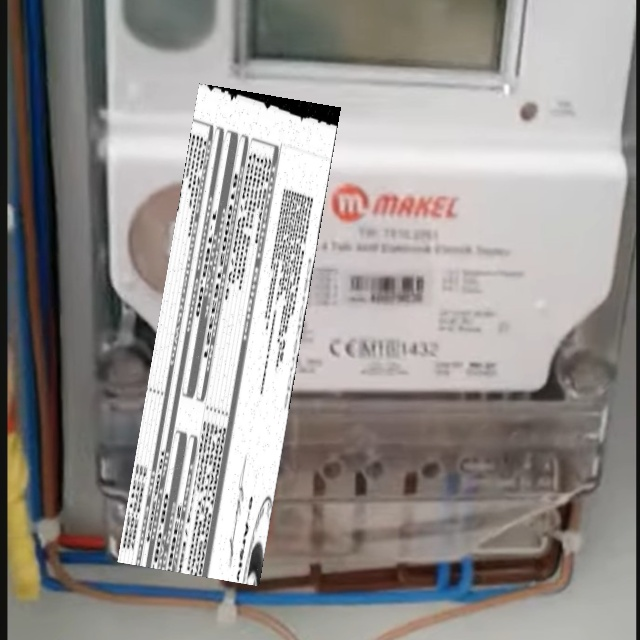electricity-bill: (116, 83, 340, 585)
